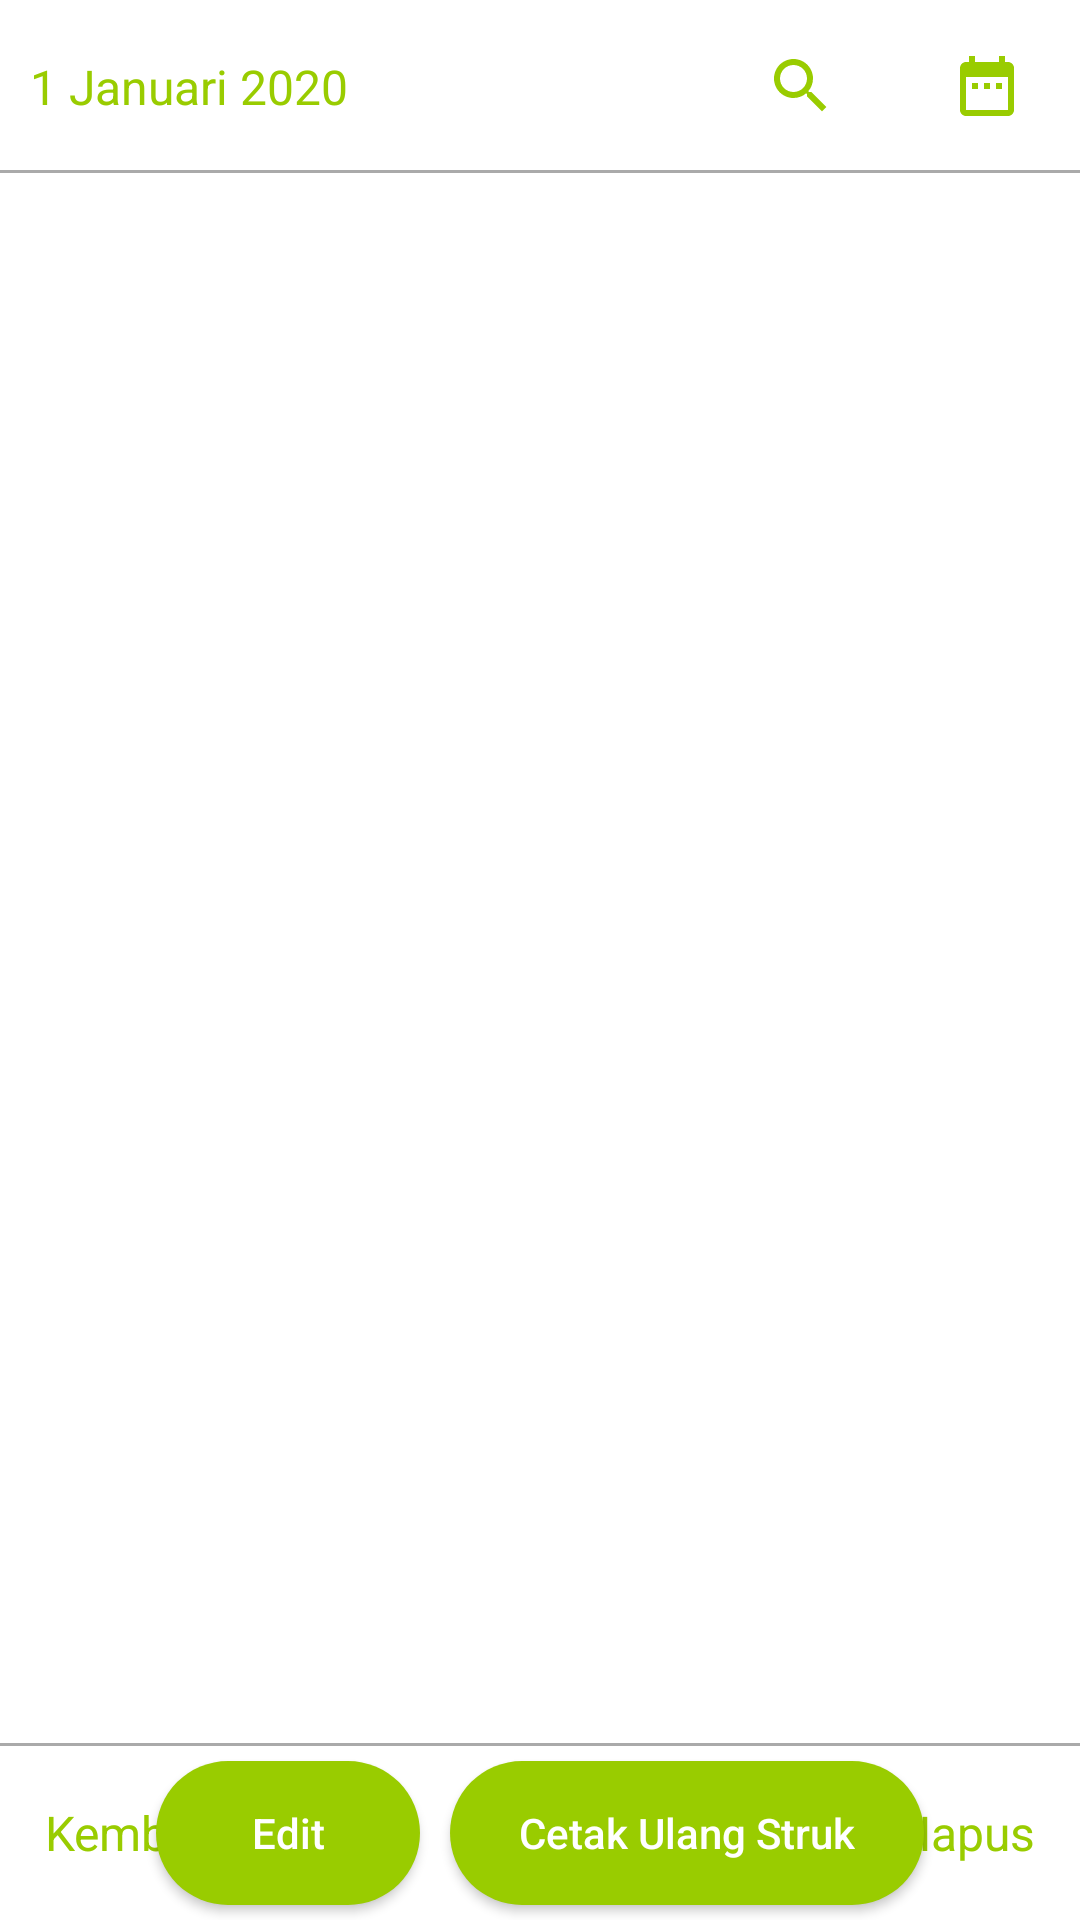

Where to tap for icons on this 1080x1920 app screen, as (x=x, y=y):
date range: (x=987, y=86)
search: (x=800, y=85)
